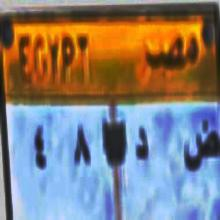4: (27, 126, 53, 182)
8: (69, 122, 92, 175)
daad: (184, 119, 220, 178)
daal: (130, 122, 157, 174)
